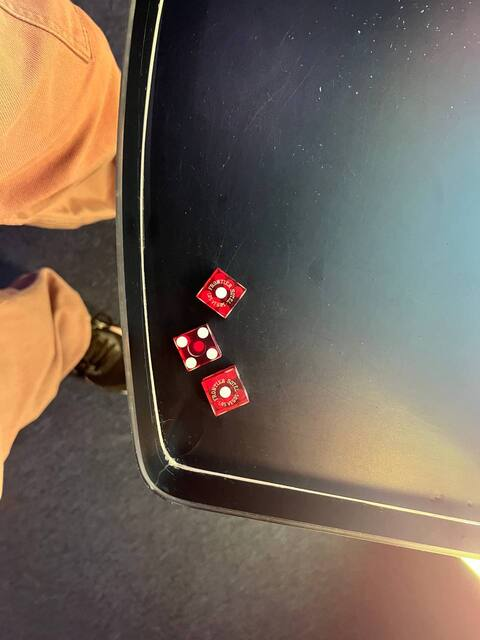four: (170, 320, 224, 373)
one: (196, 266, 250, 320), (202, 368, 253, 418)
